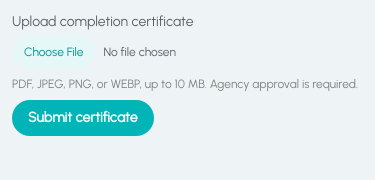
private training certificate › retries the same file with the same request ID and reports the saved certificate
The width and height of the screenshot is (375, 180).
Earlier steps of the test are not shown.
Later steps or results of the test are not shown.
Click the button "Submit certificate" at x=83, y=118, box x1=12 y1=100 x2=154 y2=136
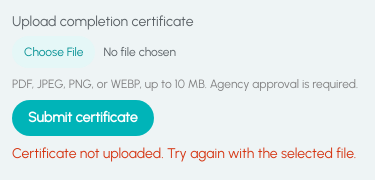
Expected: the message "Certificate not uploaded. Try again with the selected file." is shown, x1=12 y1=144 x2=356 y2=164
